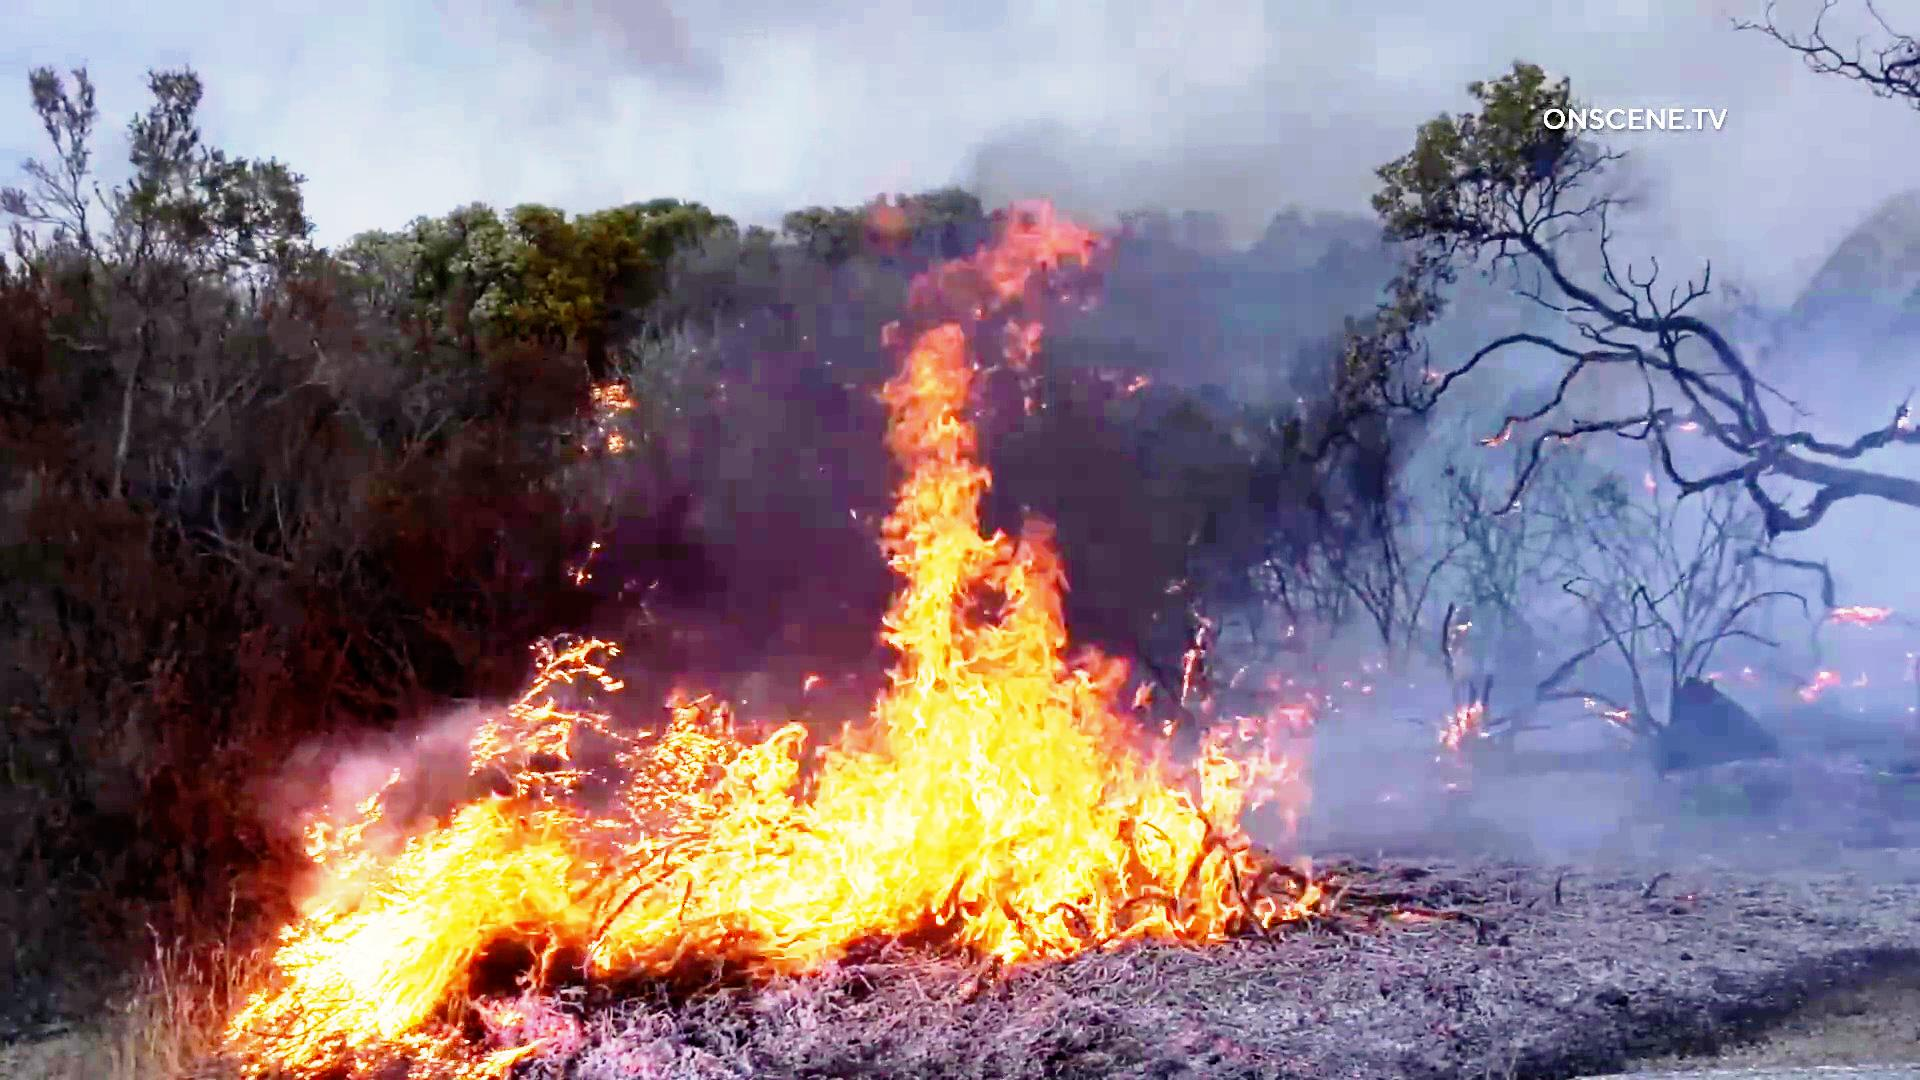fire: (803, 233, 1257, 930), (285, 650, 786, 1076)
